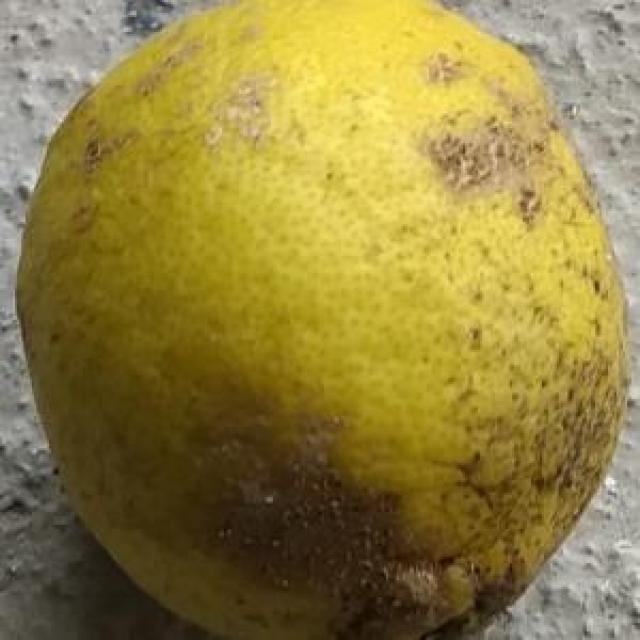lemon: (17, 3, 631, 640)
